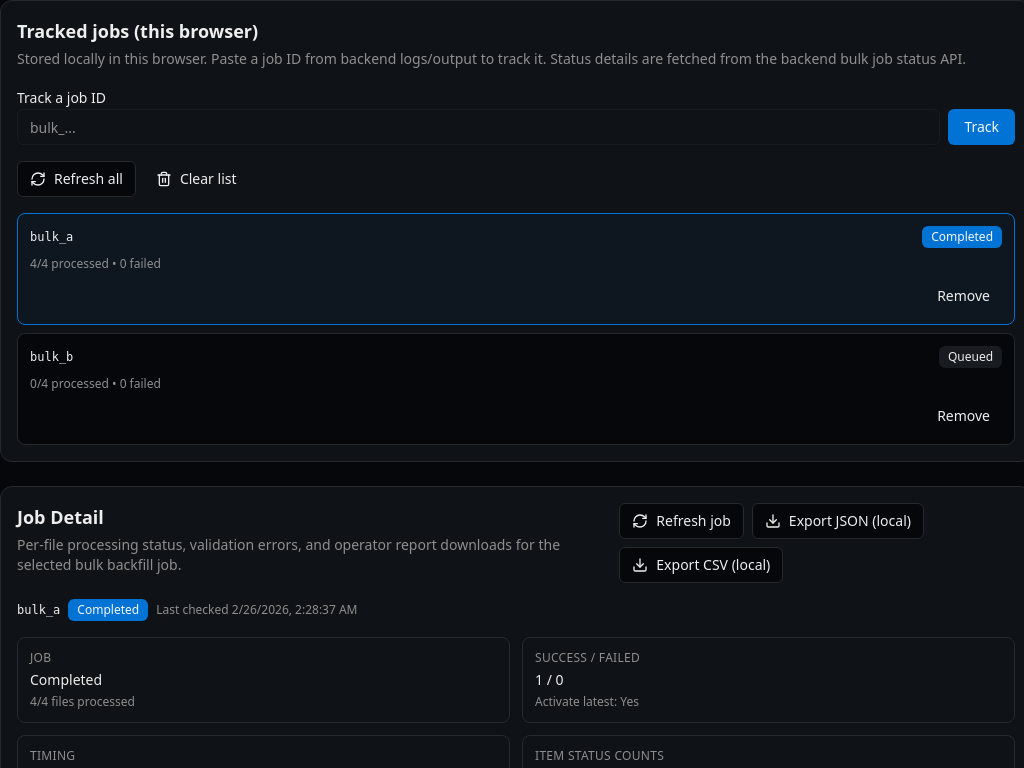
Test: AdminBulkBackfillMonitor › loads tracked jobs from localStorage, refreshes all, removes entries, and clears list
Expected: the element named "Tracked bulk jobs list" is shown, [17,213,1015,445]
Step 1. Click the button with aria-label "Refresh tracked jobs" → point(76, 179), box [17,161,136,197]
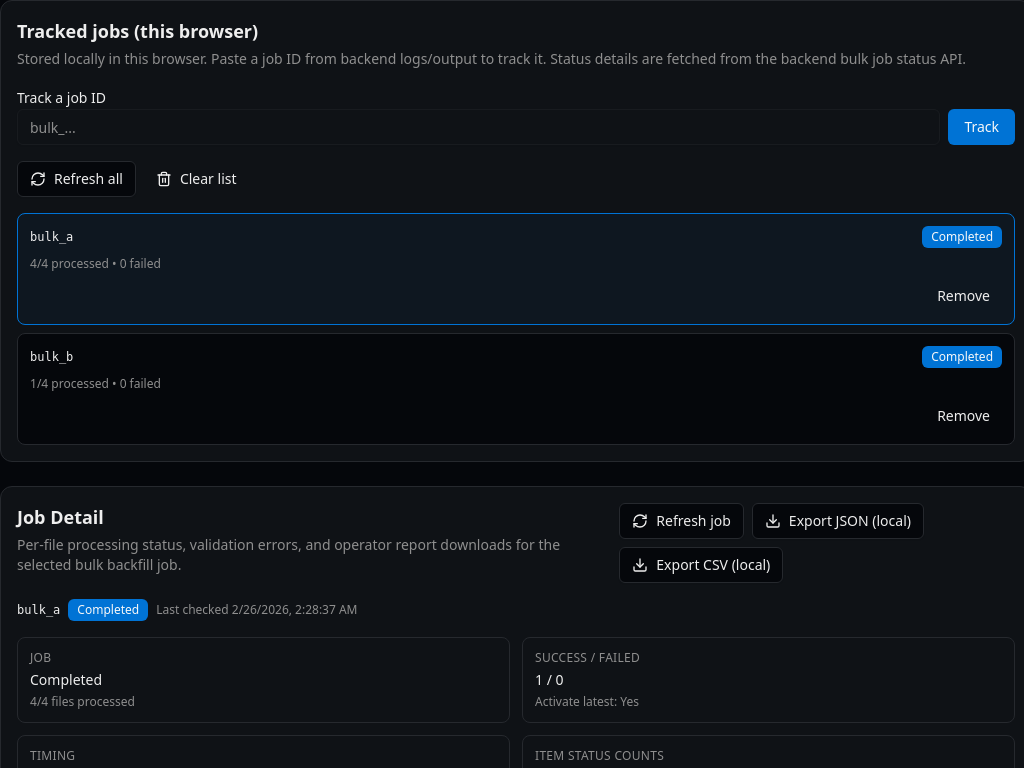
Step 2. Click the 1st button "Remove" → point(964, 296), box [925,280,1002,312]
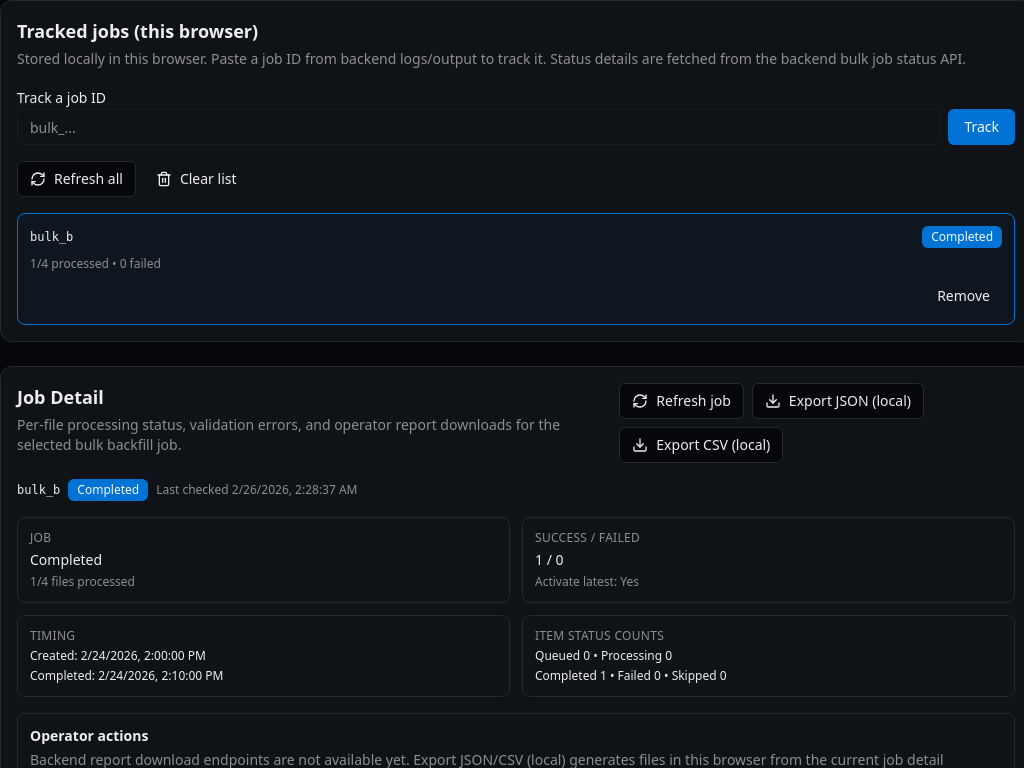
Step 3. Click the button with aria-label "Clear tracked jobs" → point(196, 179), box [144,161,248,197]
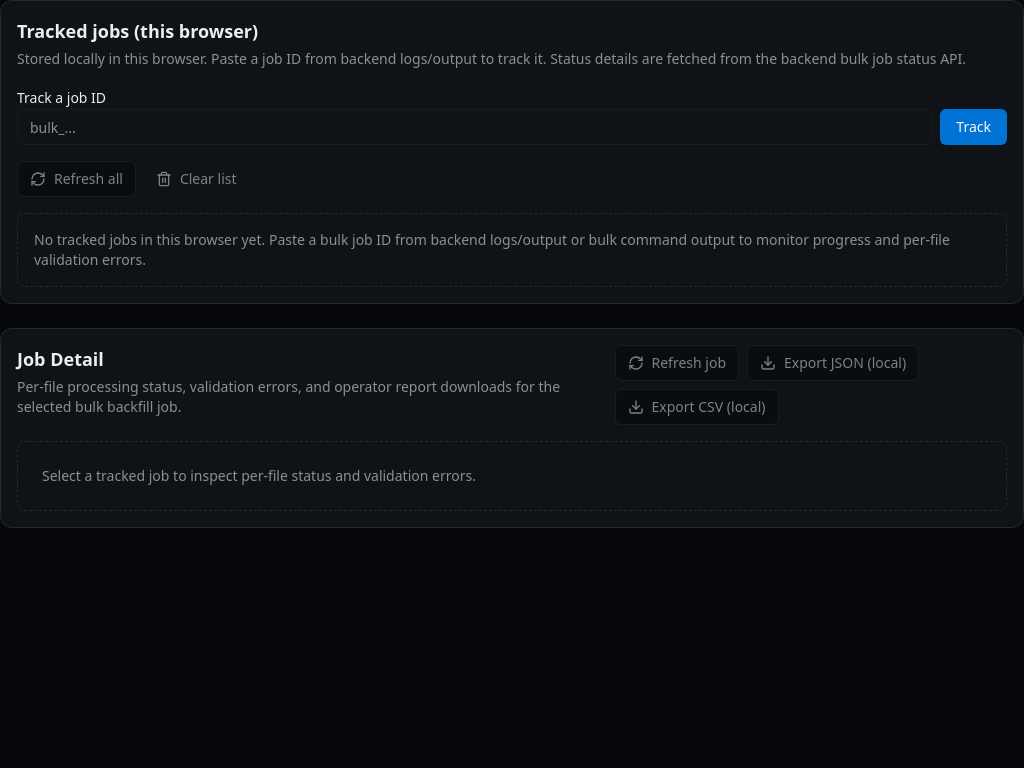
Expected: the text "No tracked jobs in this browser yet" is shown, [34,230,950,269]
